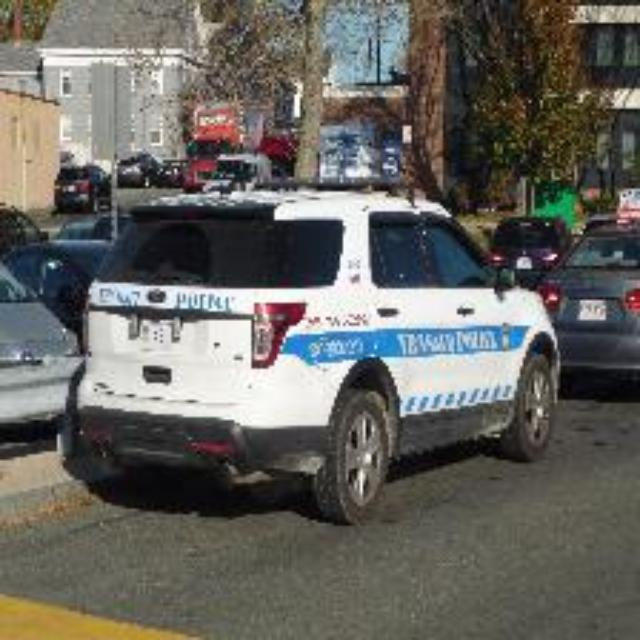emergency: (57, 164, 565, 508)
